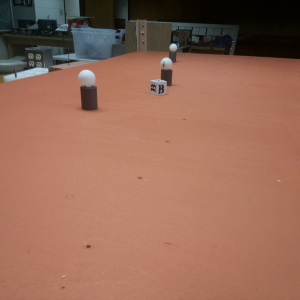blockB: (148, 79, 166, 96)
corner: (134, 18, 151, 53)
obstacle: (74, 69, 103, 111), (159, 59, 174, 78), (167, 43, 179, 57)
